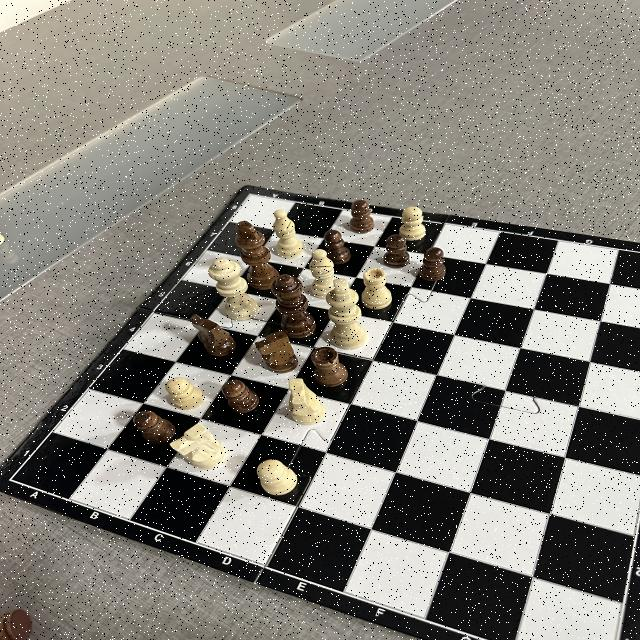Black-King: (236, 220, 278, 290)
Black-Knight: (190, 314, 236, 356), (255, 331, 298, 373)
Black-Pawn: (221, 379, 259, 414), (134, 412, 175, 442), (324, 231, 352, 265), (419, 247, 445, 281), (384, 234, 410, 268), (350, 200, 374, 234)
Black-Queen: (272, 274, 316, 340)
Black-Rook: (312, 347, 348, 387)
White-Bishop: (274, 209, 304, 258), (310, 250, 338, 298)
White-King: (326, 278, 366, 349)
White-Knight: (168, 424, 228, 470), (288, 378, 326, 424)
White-Pawn: (257, 459, 298, 495), (166, 376, 205, 410), (400, 207, 426, 241)
White-Queen: (208, 258, 259, 320)
White-Rook: (362, 268, 392, 310)
